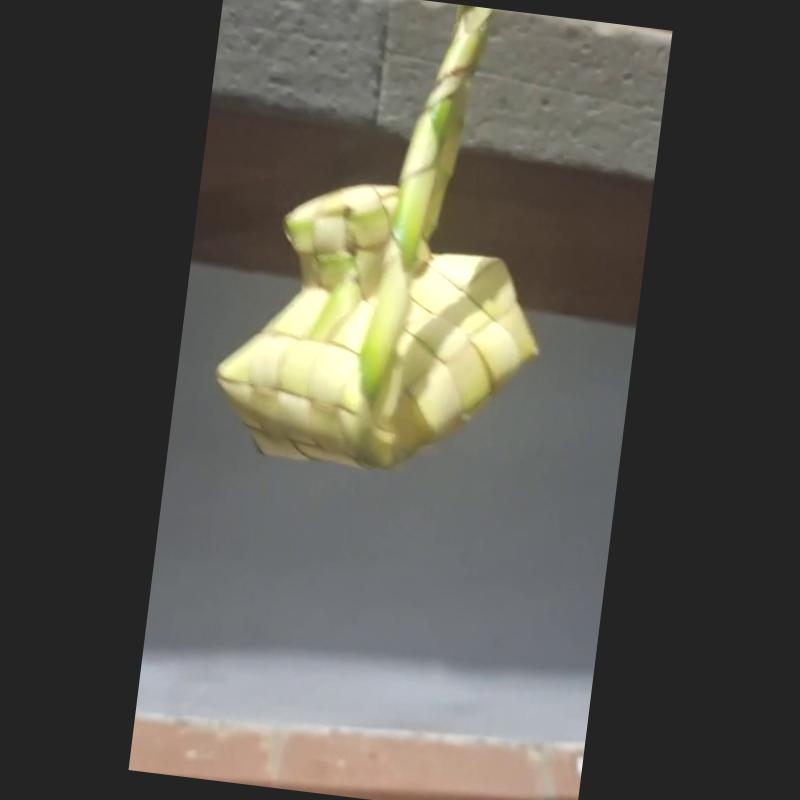Tipat Gong: (212, 4, 548, 476)
